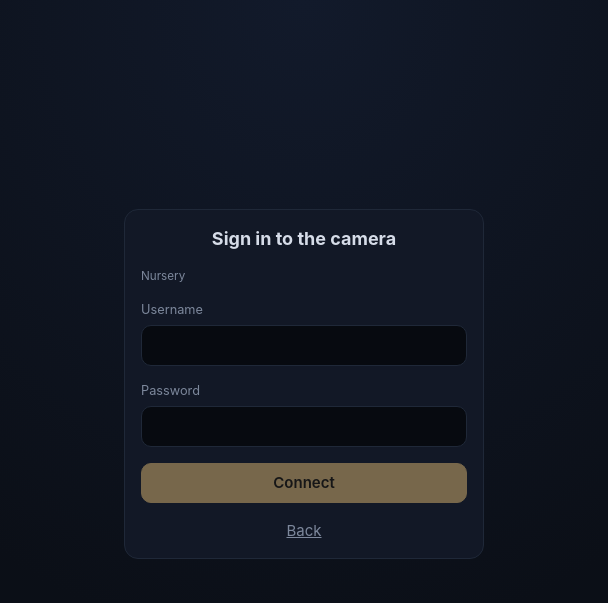
it: each error code shows its message
Earlier steps of the test are not shown.
Step 1. Type "admin" into the field labelled "Username" → (304, 346), box [141,325,467,366]
Step 2. Type "x" into the password field labelled "Password" → (304, 427), box [141,406,467,447]
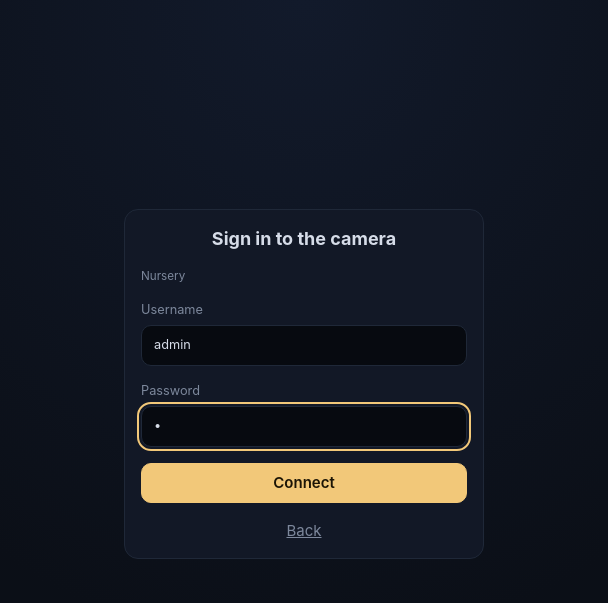
Step 3. Click the button "Connect" → (304, 483), box [141,463,467,503]
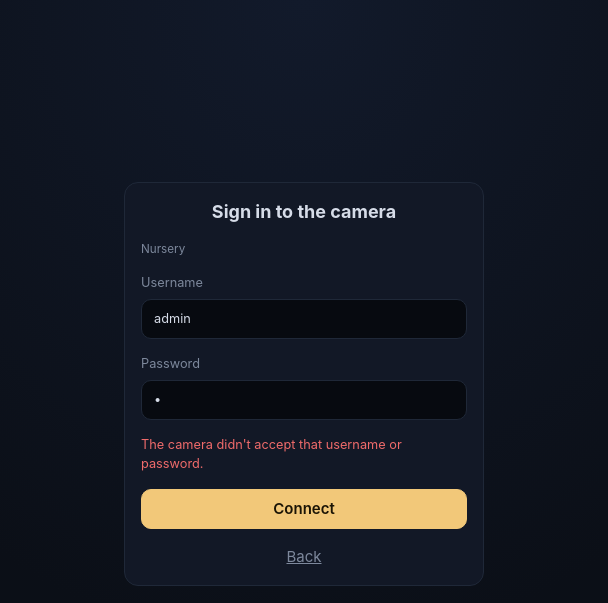
Check: the message reads "The camera didn't accept that username or password.", box [141,437,402,471]
Step 4. Click the button "Connect" → (304, 509), box [141,489,467,529]
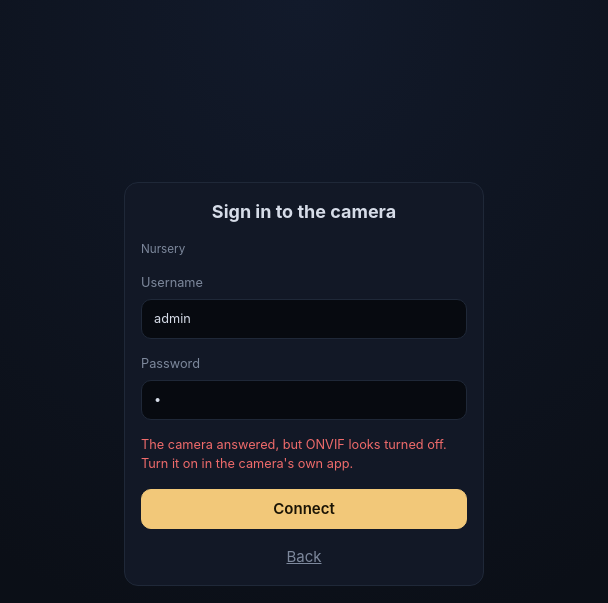
Check: the message shows "The camera answered, but ONVIF looks turned off. Turn it on in the camera's own app.", box [141,437,447,471]
Step 5. Click the button "Connect" → (304, 509), box [141,489,467,529]
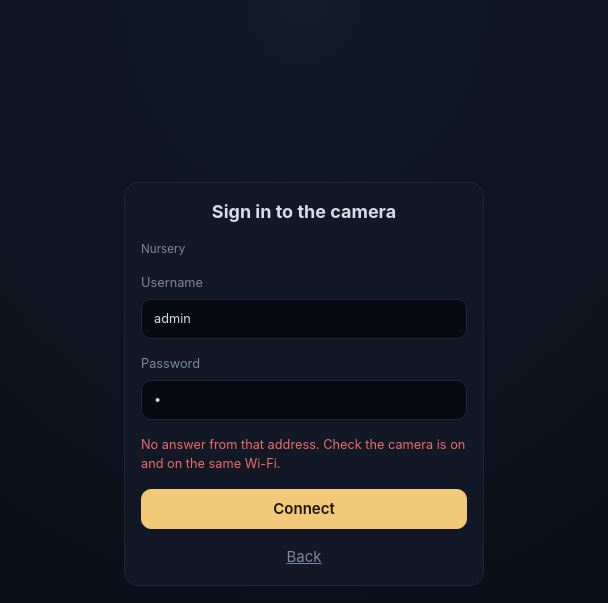
Check: the message reads "No answer from that address. Check the camera is on and on the same Wi-Fi.", box [141,437,465,471]
Step 6. Click the button "Connect" → (304, 509), box [141,489,467,529]
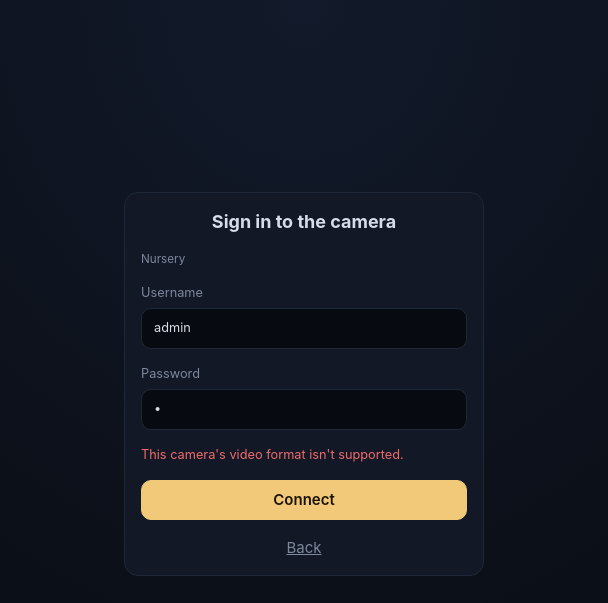
Check: the message reads "This camera's video format isn't supported.", box [141,446,404,462]
Step 7. Click the button "Connect" → (304, 500), box [141,480,467,520]
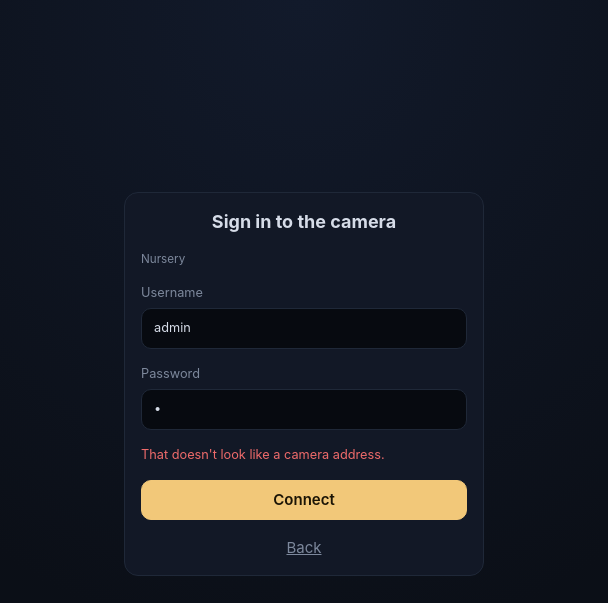
Check: the message reads "That doesn't look like a camera address.", box [141,446,385,462]
